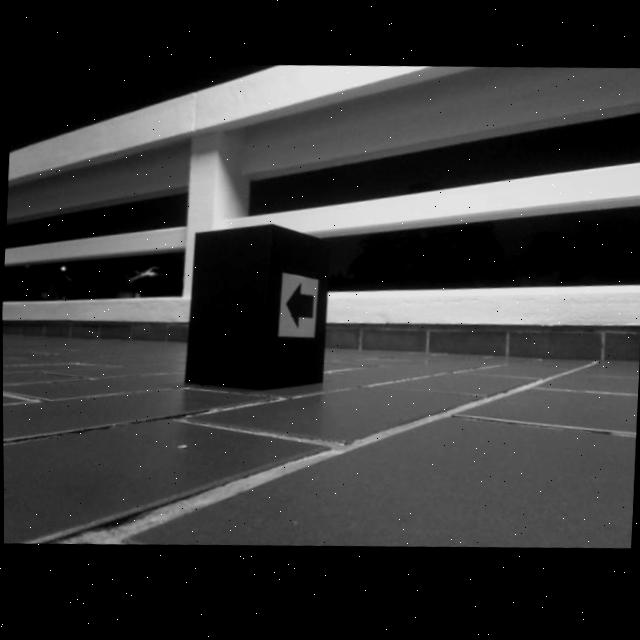LEFT: (284, 285, 314, 333)
